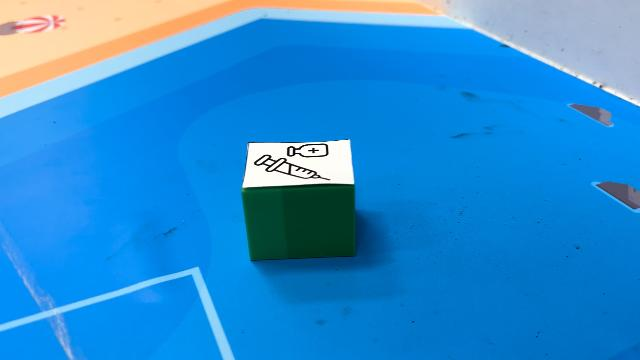syringe: (241, 139, 357, 261)
